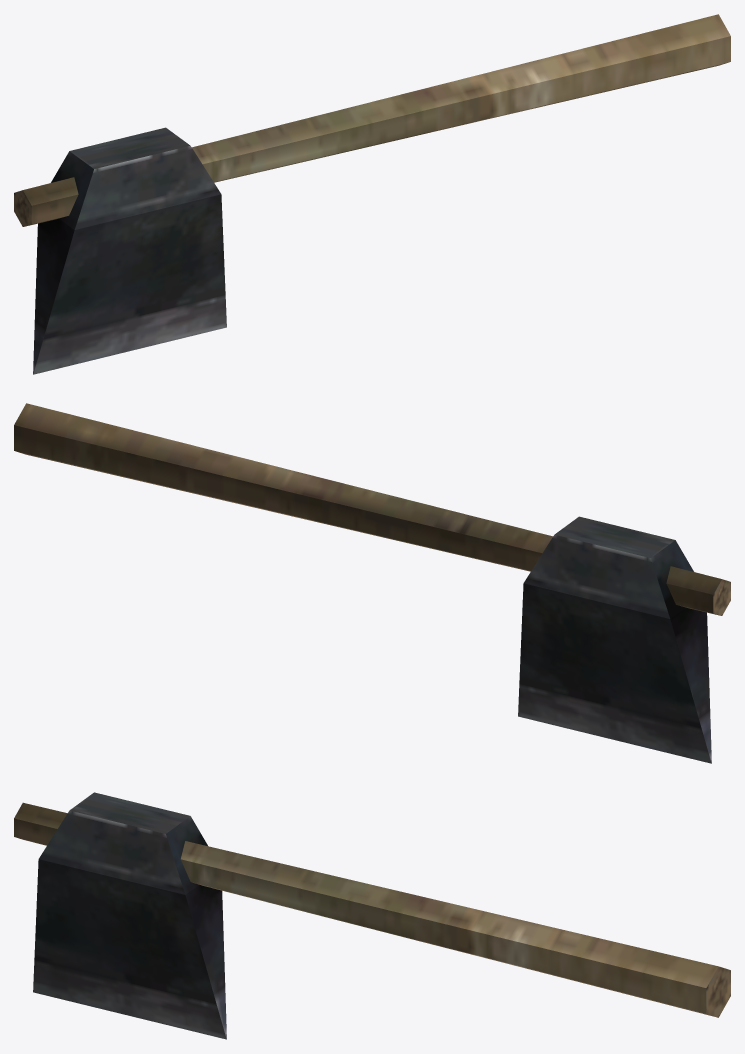
Rendered from a_wujian_fuzi.fbx.
The picture shows the model from 3 angles, top to bottom: view 1: azimuth 30°, elevation 25°; view 2: azimuth 150°, elevation 25°; view 3: azimuth 330°, elevation 25°; orthographic projection.
Parts seen in each view (by area): view 1: a_wujian_fuzi; view 2: a_wujian_fuzi; view 3: a_wujian_fuzi.
Part boxes in pixels (x1,y1,x2,y2): a_wujian_fuzi: (14,14,730,374); a_wujian_fuzi: (14,403,730,763); a_wujian_fuzi: (14,792,730,1039).
Bounding box in the file's own units: 1.05 × 0.2916 × 0.094.
